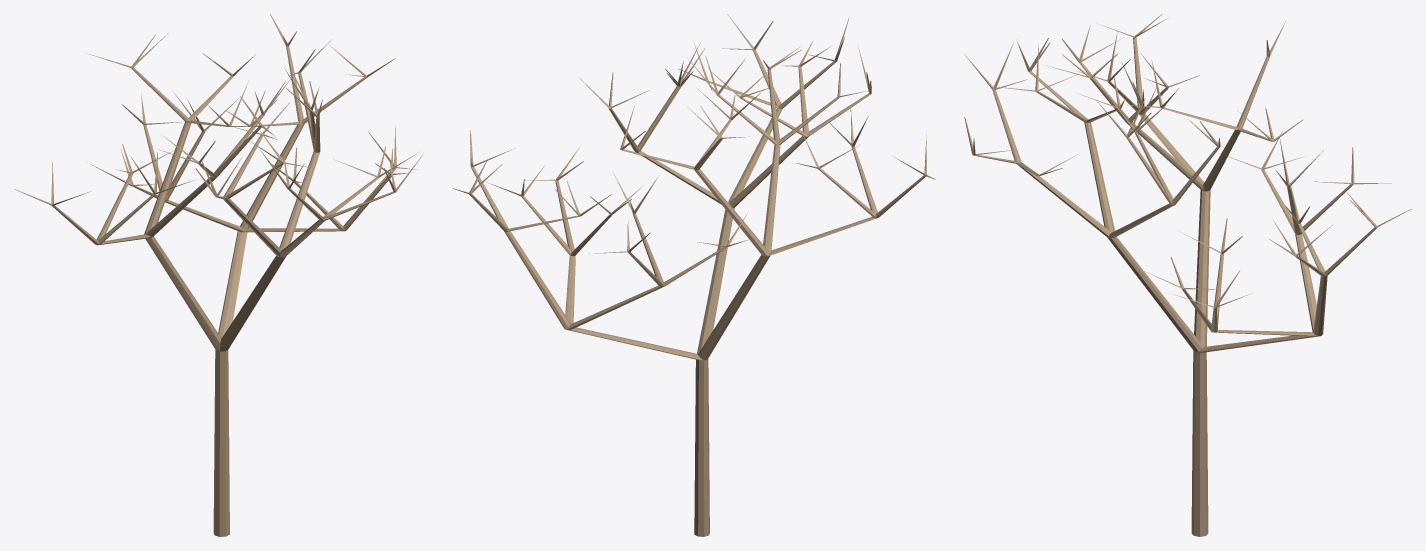
The model's file is tree_4.glb.
3 renders of one model, left to right at view 1: azimuth 30°, elevation 25°; view 2: azimuth 150°, elevation 25°; view 3: azimuth 270°, elevation 25°, orthographic. The views are drawn at different scales.
Parts seen in each view (by area): view 1: Mesh_Mesh_head_geo.001_lambert2SG.001; view 2: Mesh_Mesh_head_geo.001_lambert2SG.001; view 3: Mesh_Mesh_head_geo.001_lambert2SG.001.
Boxes of the visible parts, <box> form: Mesh_Mesh_head_geo.001_lambert2SG.001: <box>14,14,423,536</box>; Mesh_Mesh_head_geo.001_lambert2SG.001: <box>453,14,935,536</box>; Mesh_Mesh_head_geo.001_lambert2SG.001: <box>964,14,1411,536</box>.
Bounding box in the file's own units: 35.19 × 37.31 × 31.68.
